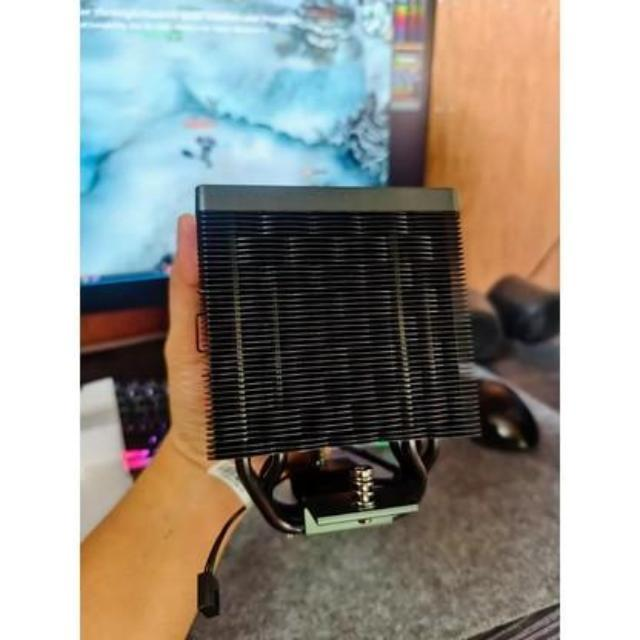CPU_Fan: (193, 177, 485, 532)
